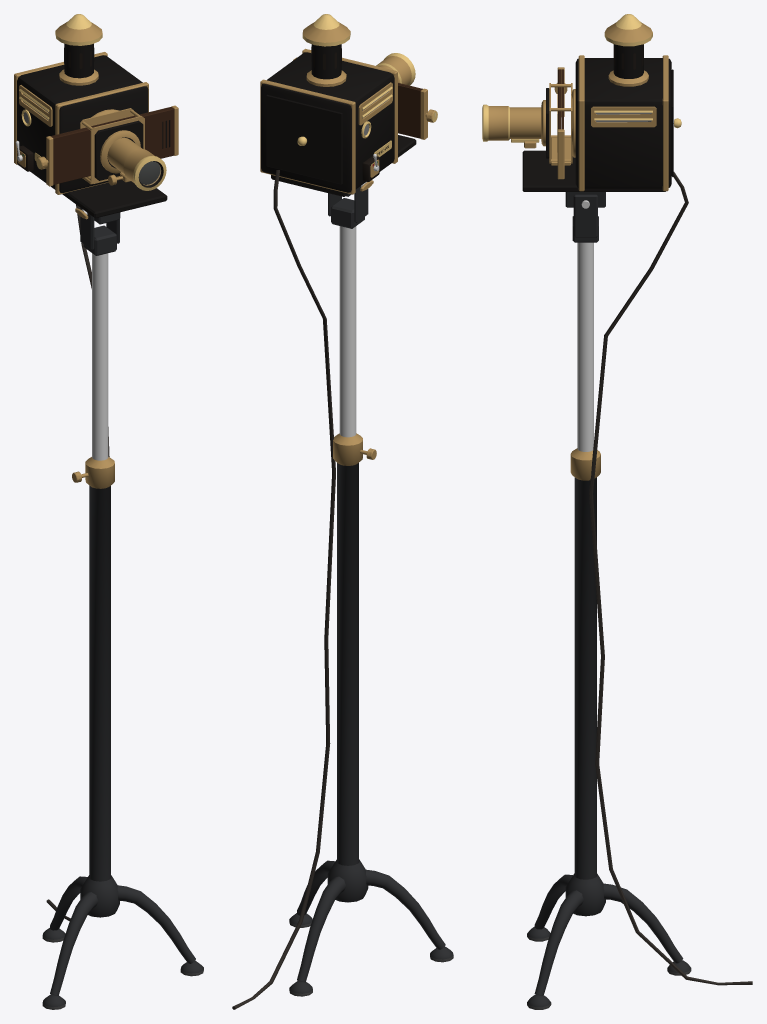
File: slide_projector.glb
The picture shows the model from 3 angles, left to right: view 1: azimuth 30°, elevation 25°; view 2: azimuth 150°, elevation 25°; view 3: azimuth 270°, elevation 25°; orthographic projection.
Parts seen in each view (by area): view 1: lantern_stand, lantern_body, IA_slide_gate; view 2: lantern_stand, lantern_body, IA_slide_gate; view 3: lantern_stand, lantern_body, IA_slide_gate.
Part boxes in pixels (x1=…): lantern_stand: x1=42, y1=179, x2=203, y2=1009; lantern_body: x1=14, y1=14, x2=166, y2=194; IA_slide_gate: x1=46, y1=105, x2=178, y2=186; lantern_stand: x1=232, y1=135, x2=453, y2=1009; lantern_body: x1=260, y1=14, x2=415, y2=194; IA_slide_gate: x1=293, y1=57, x2=427, y2=139; lantern_stand: x1=522, y1=150, x2=752, y2=1009; lantern_body: x1=482, y1=14, x2=681, y2=191; IA_slide_gate: x1=557, y1=67, x2=564, y2=179.
Size of the model in its own units: 0.3661 by 2.09 by 0.5354.
